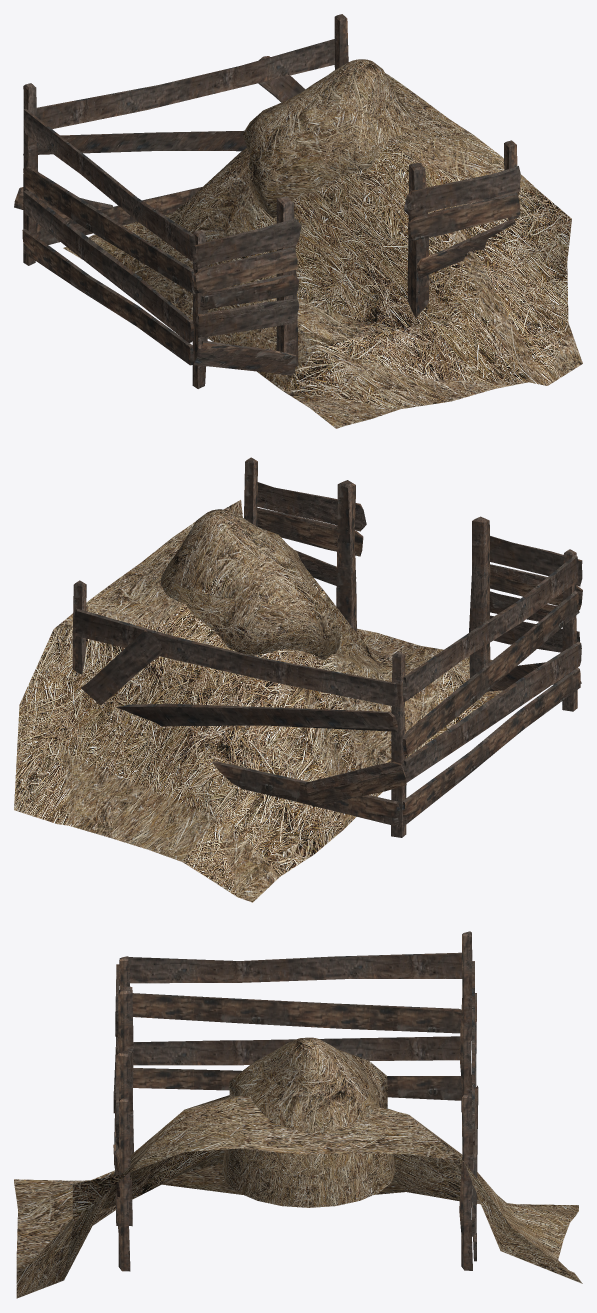
Rendered from Straw.fbx.
3 views of the same model, one above another, from view 1: azimuth 30°, elevation 25°; view 2: azimuth 150°, elevation 25°; view 3: azimuth 270°, elevation 25° (orthographic). The views are drawn at different scales.
Parts seen in each view (by area): view 1: Straw_LOD0; view 2: Straw_LOD0; view 3: Straw_LOD0.
Part boxes in pixels (x1,y1,x2,y2): Straw_LOD0: [14, 14, 582, 428]; Straw_LOD0: [14, 457, 582, 902]; Straw_LOD0: [14, 931, 582, 1298].
Size of what is drawn, in the model's own units: 3.82 by 2.47 by 5.14.
